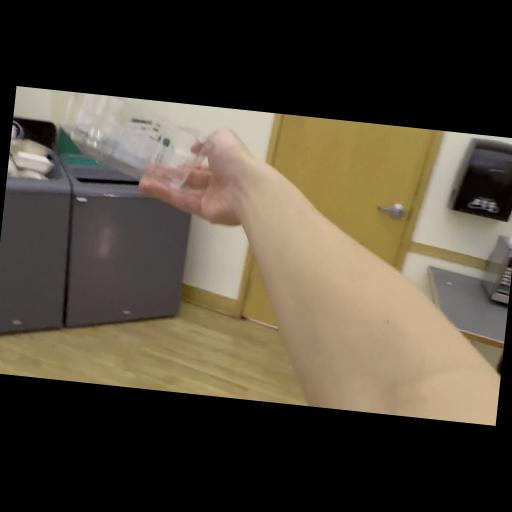small_plastic_container: (64, 92, 212, 194)
